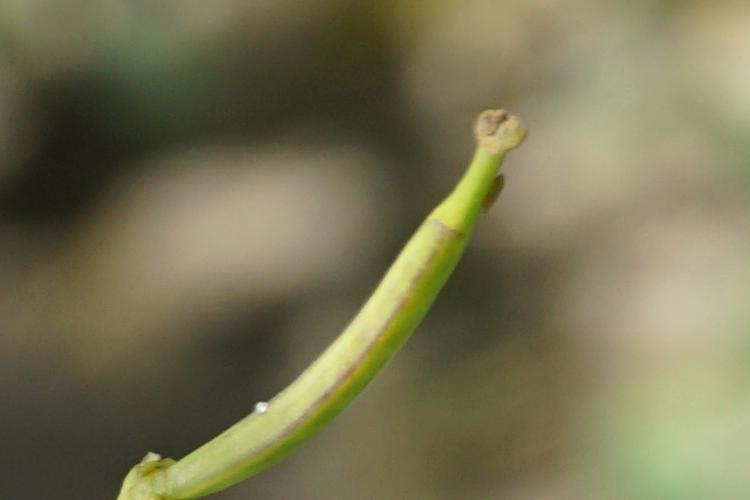pod: (97, 100, 558, 492)
